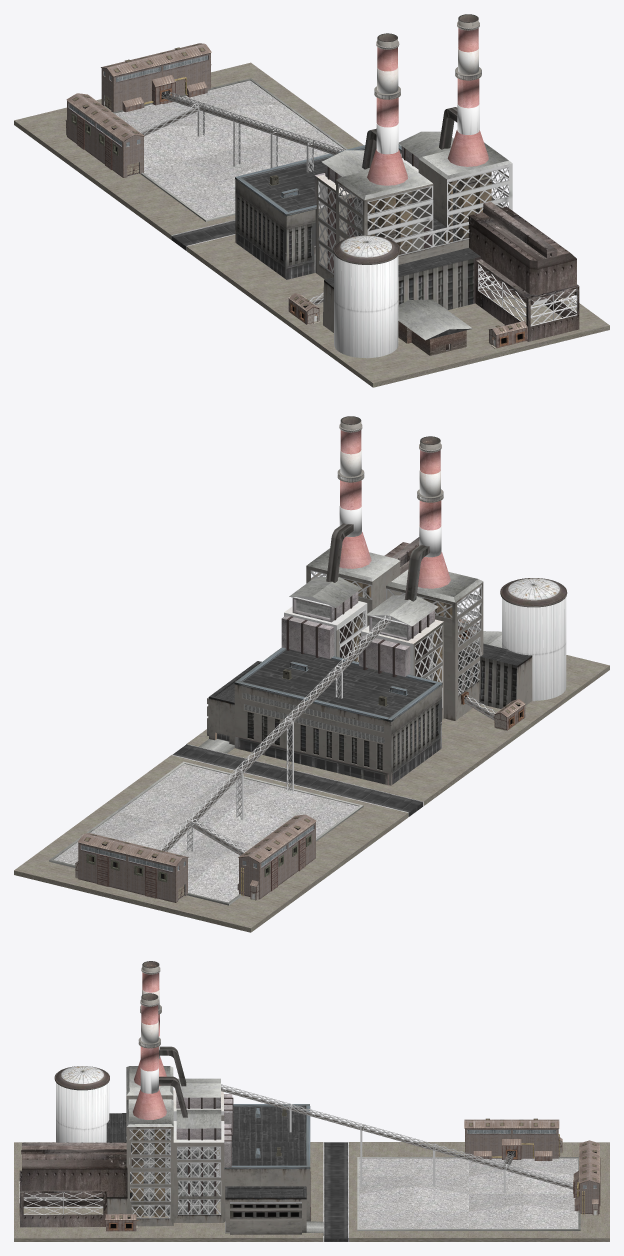
File: oil_refinery.glb
The picture shows the model from 3 angles, top to bottom: view 1: azimuth 30°, elevation 25°; view 2: azimuth 150°, elevation 25°; view 3: azimuth 270°, elevation 25°; orthographic projection. The views are drawn at different scales.
Parts seen in each view (by area): view 1: Object_8, Object_11, Object_4; view 2: Object_8, Object_11, Object_4; view 3: Object_8, Object_11, Object_4.
Boxes of the visible parts, x1,y1,x2,y2 form: Object_8: (112, 14, 579, 358); Object_11: (14, 62, 609, 387); Object_4: (65, 43, 527, 348); Object_8: (49, 416, 567, 905); Object_11: (14, 655, 609, 932); Object_4: (75, 618, 525, 902); Object_8: (19, 961, 580, 1241); Object_11: (14, 1142, 609, 1241); Object_4: (105, 1118, 600, 1231).
Bounding box in the file's own units: 0.3809 × 0.4272 × 1.
Materials: 3 (3 with a texture image).
